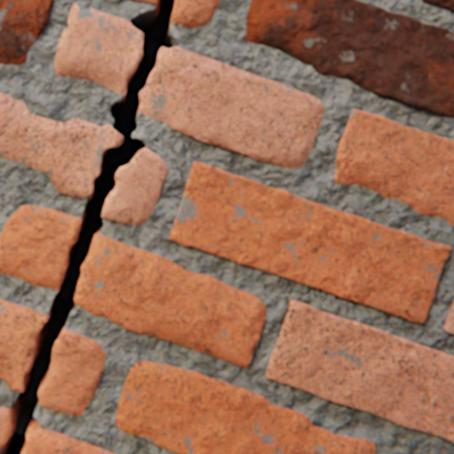brick: (169, 162, 450, 322), (266, 299, 453, 441), (245, 0, 453, 117), (116, 360, 374, 453), (334, 109, 453, 226), (0, 0, 53, 64), (420, 0, 453, 12), (443, 299, 453, 333)
broken_brick: (75, 233, 265, 367), (139, 47, 323, 168), (0, 92, 122, 198), (55, 4, 143, 94), (0, 205, 81, 289), (38, 328, 106, 414), (102, 148, 167, 224), (0, 299, 48, 390), (22, 426, 119, 453), (171, 0, 219, 28), (0, 405, 12, 449), (130, 0, 157, 5)
crack: (1, 0, 176, 453)
